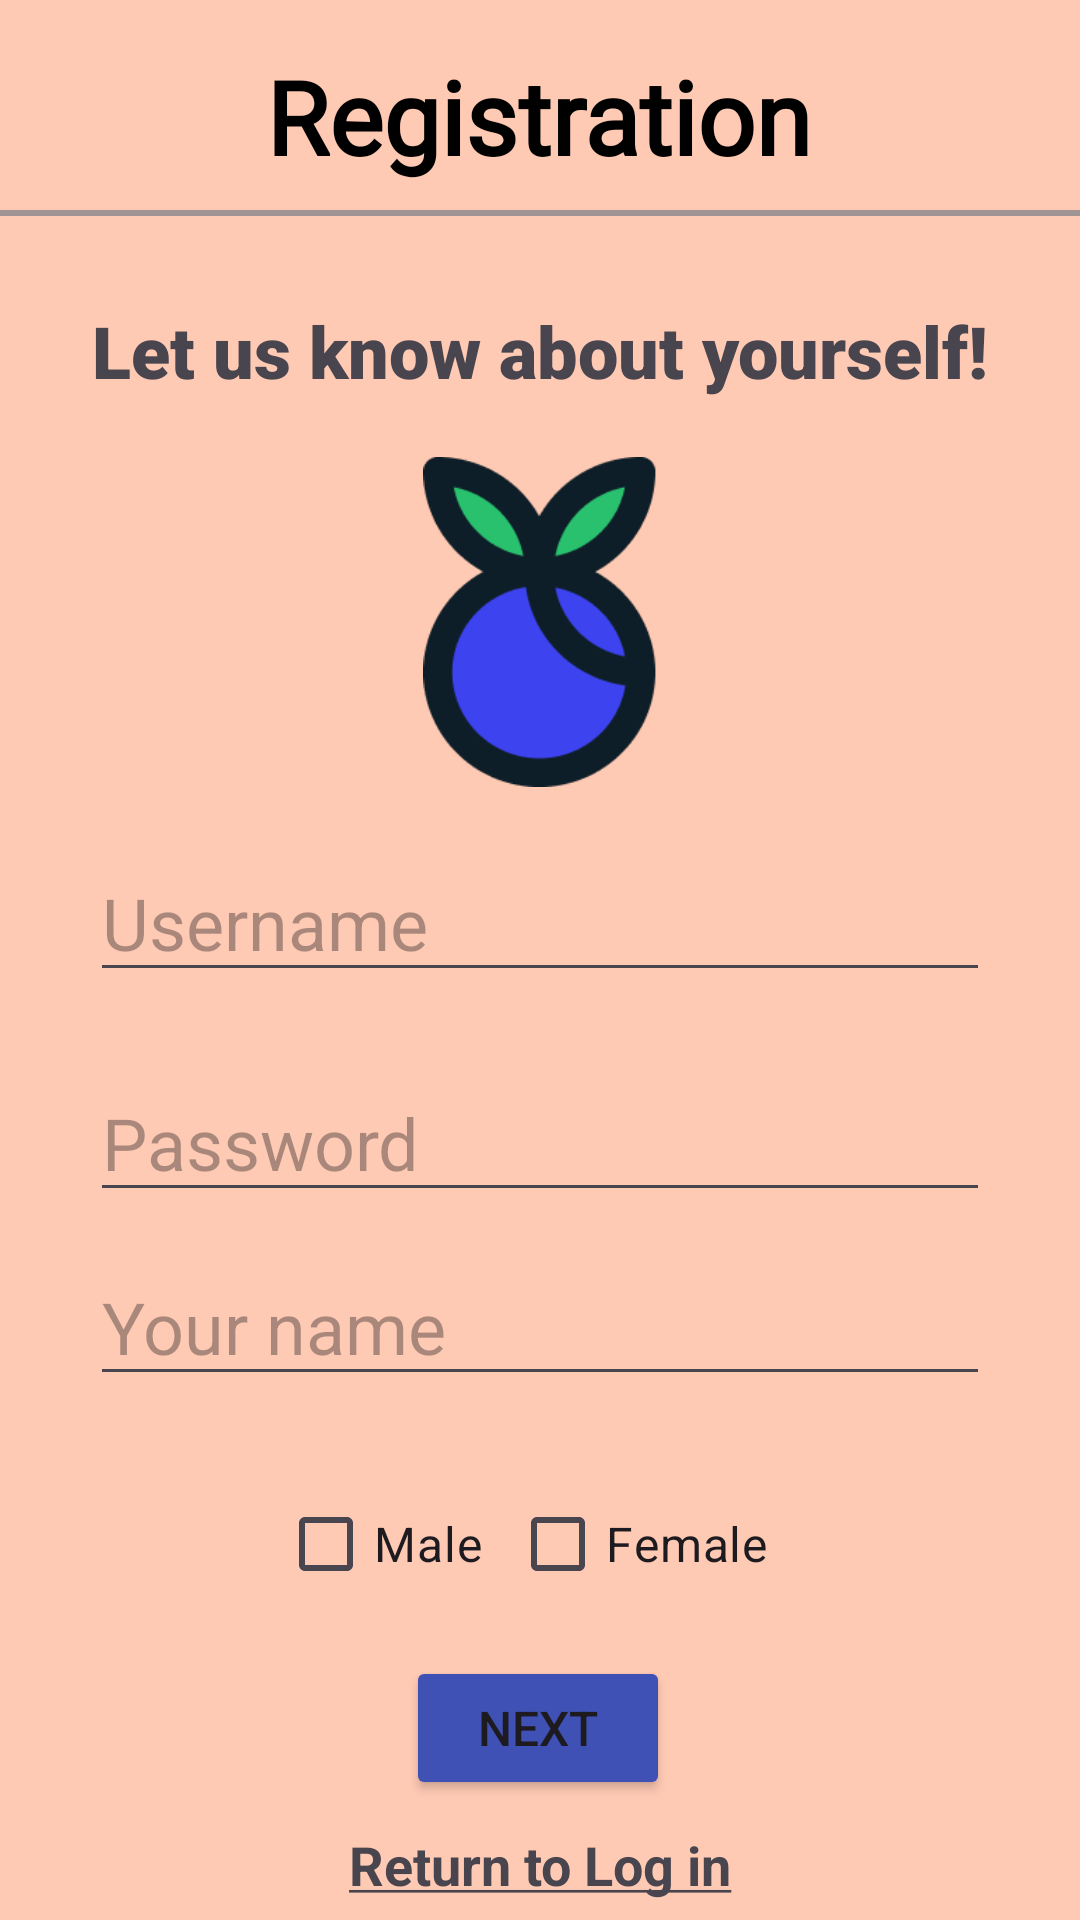

Icon click points for this 1080x1920 phone screenshot, format point (x, y):
blueberry: point (539, 622)
